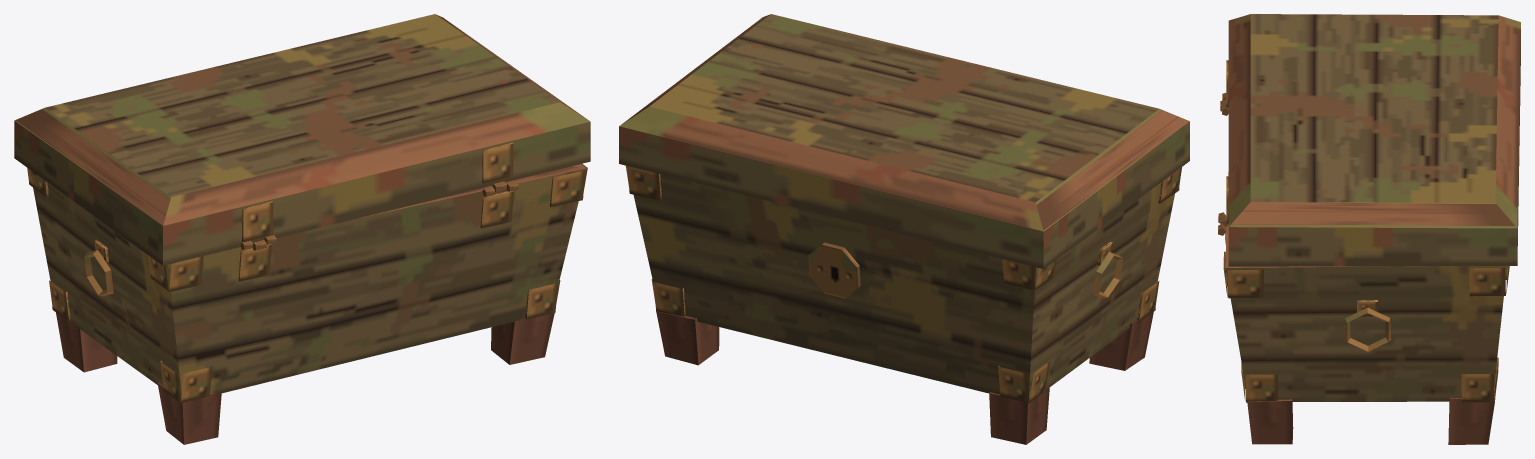
Rendered from SM_CH03_Sturdy.fbx.
3 views of the same model, side by side, from view 1: azimuth 30°, elevation 25°; view 2: azimuth 150°, elevation 25°; view 3: azimuth 270°, elevation 25° (orthographic).
Parts seen in each view (by area): view 1: CH03_Lid, CH03_Body; view 2: CH03_Lid, CH03_Body; view 3: CH03_Lid, CH03_Body.
Part boxes in pixels (x1,y1,x2,y2): CH03_Lid: (14, 14, 590, 265); CH03_Body: (27, 164, 587, 444); CH03_Lid: (619, 14, 1189, 269); CH03_Body: (626, 165, 1181, 444); CH03_Lid: (1220, 14, 1520, 266); CH03_Body: (1218, 93, 1509, 444).
Bounding box in the file's own units: 0.9256 × 0.5194 × 0.5718.
